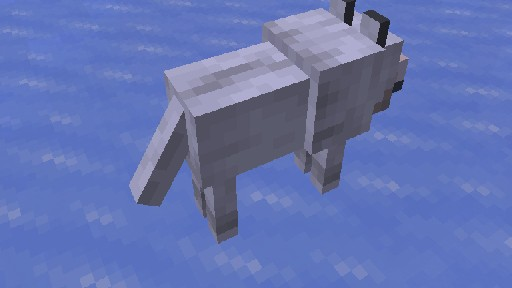wolf: (128, 0, 409, 243)
